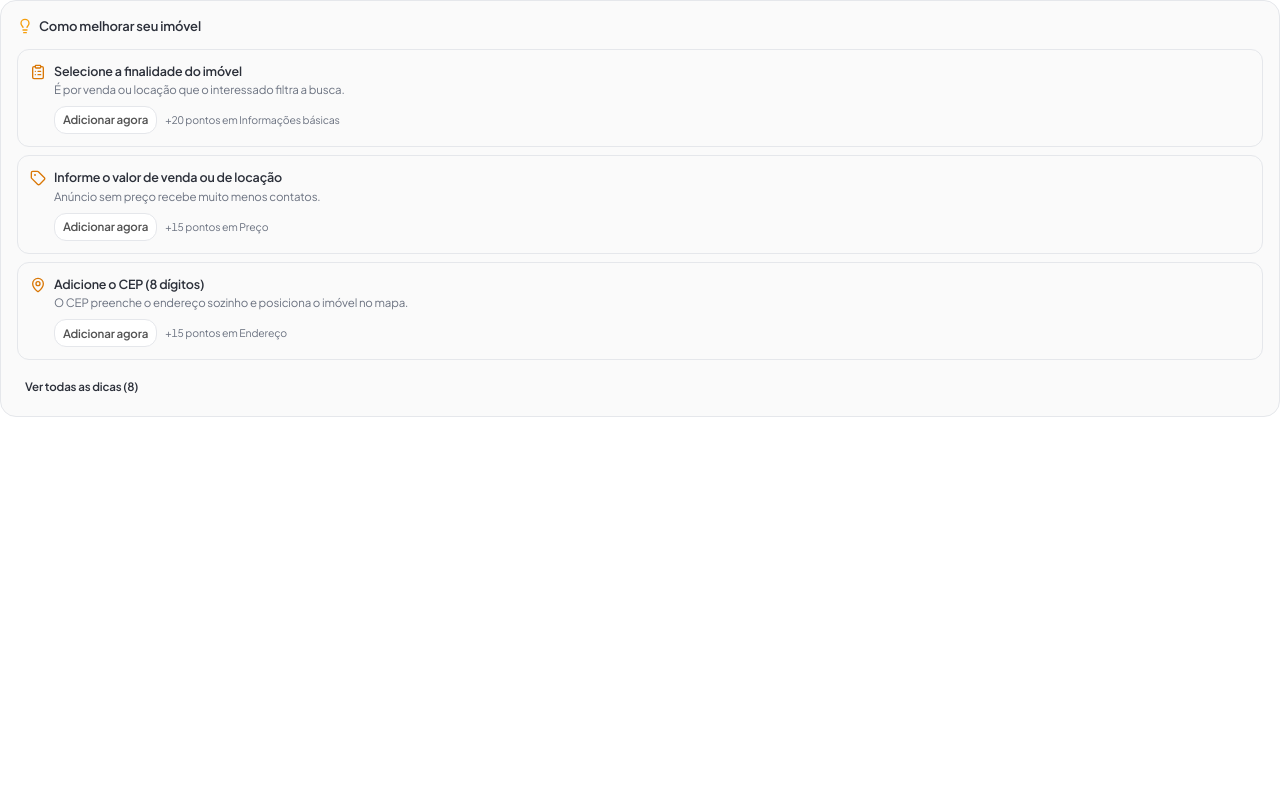
it: PropertyTips › expande e recolhe a lista completa
Click the button "Ver todas as dicas (8)" at (82, 386), box top-left (17, 372), bottom-right (146, 400)
(page scrolled)
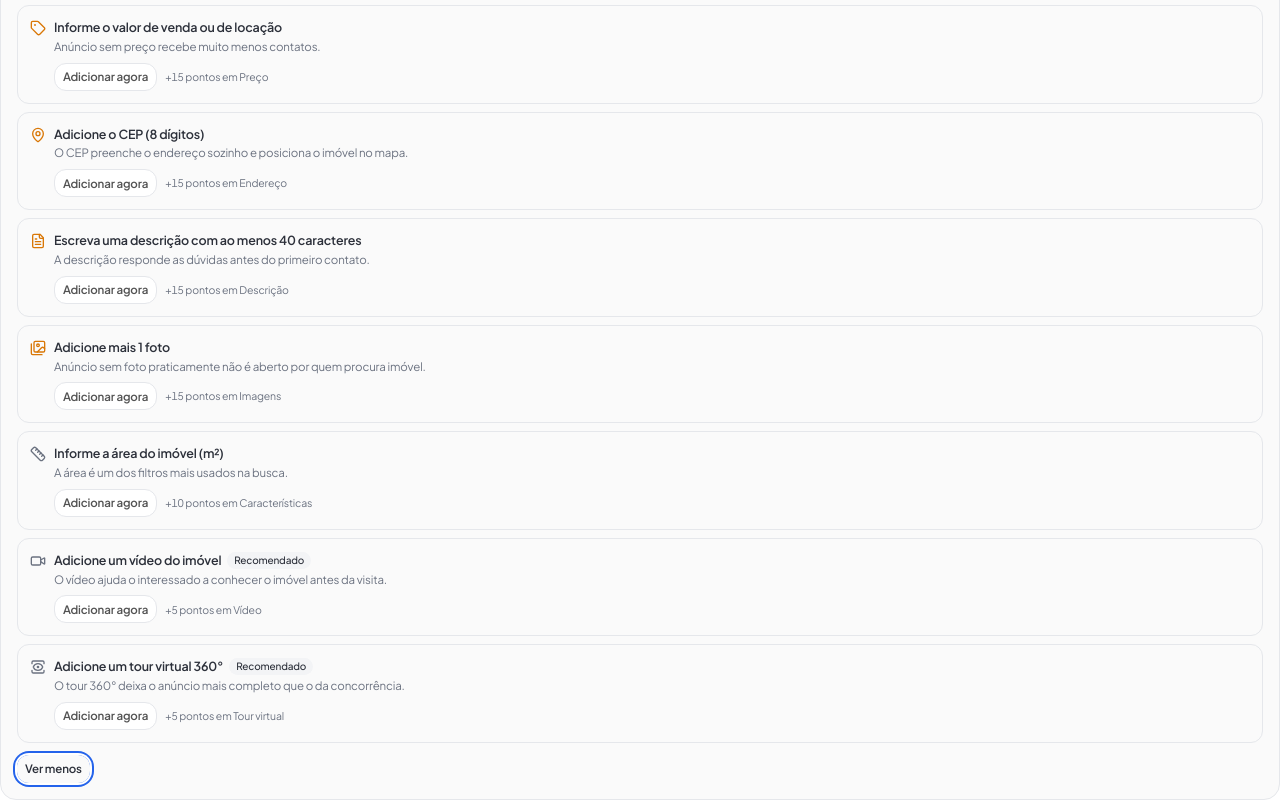
Click the button "Ver menos" at (53, 769), box top-left (17, 755), bottom-right (90, 783)
(page scrolled)
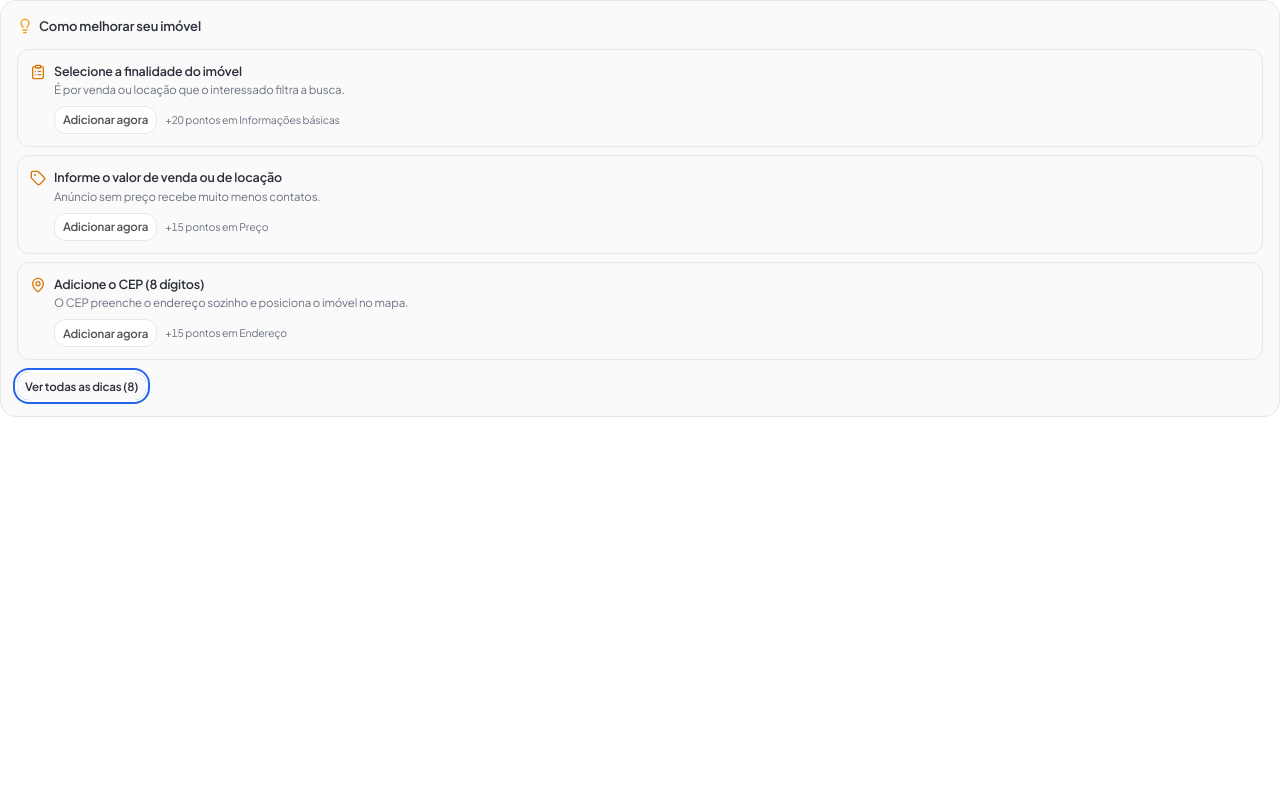
Expected: the number of list items is 3, top-left (17, 48), bottom-right (1263, 147); top-left (17, 155), bottom-right (1263, 254); top-left (17, 262), bottom-right (1263, 360)
